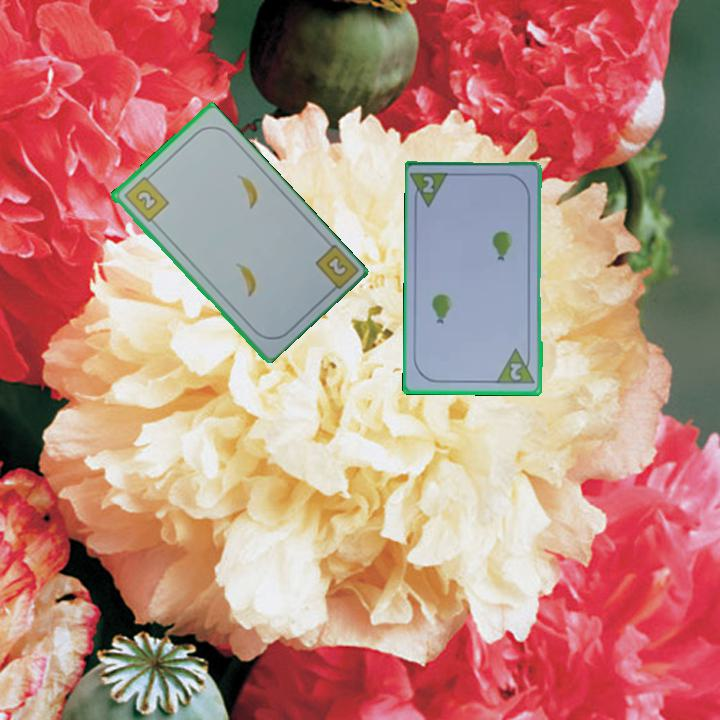2b: (120, 170, 171, 225), (322, 252, 350, 279)
2p: (493, 346, 538, 387), (418, 172, 437, 196)
